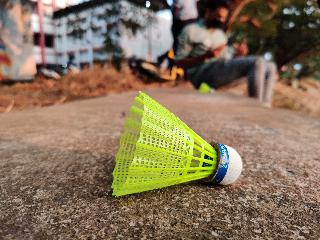shuttlecock: (109, 88, 243, 198)
